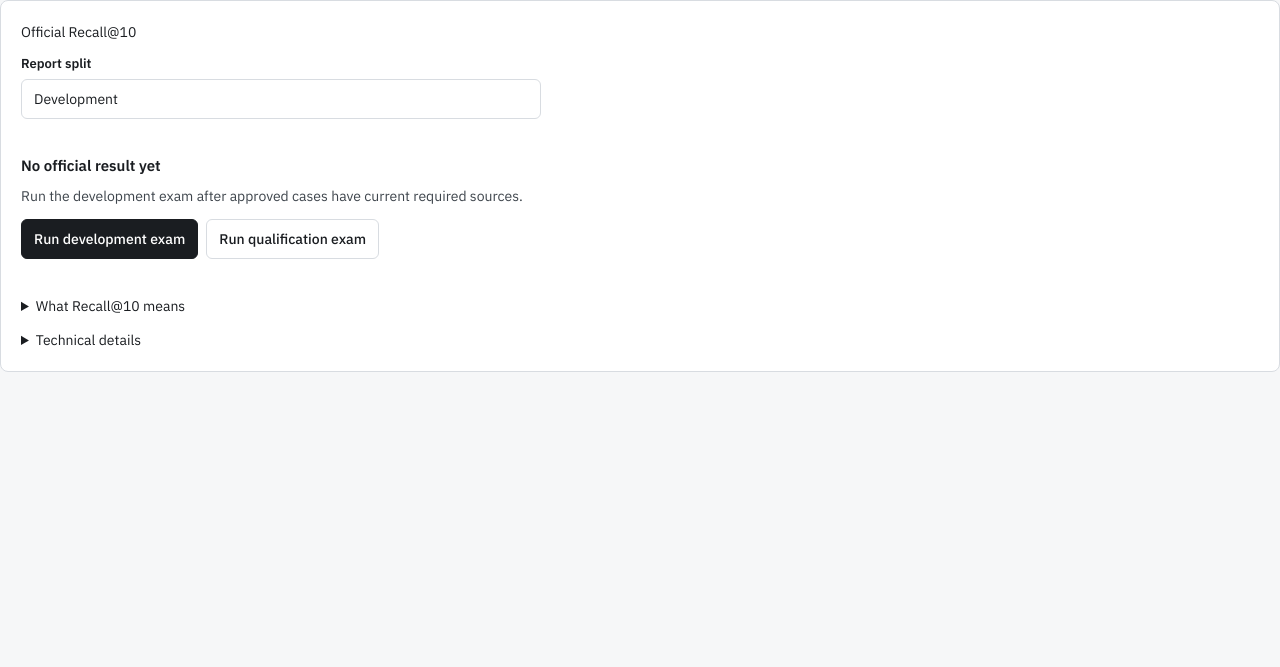
Test: EvaluationExamBoard › polls queued then running then succeeded and keeps count-only rows
Step 1. Click the button "Run development exam" → (110, 239), box [21,219,198,259]
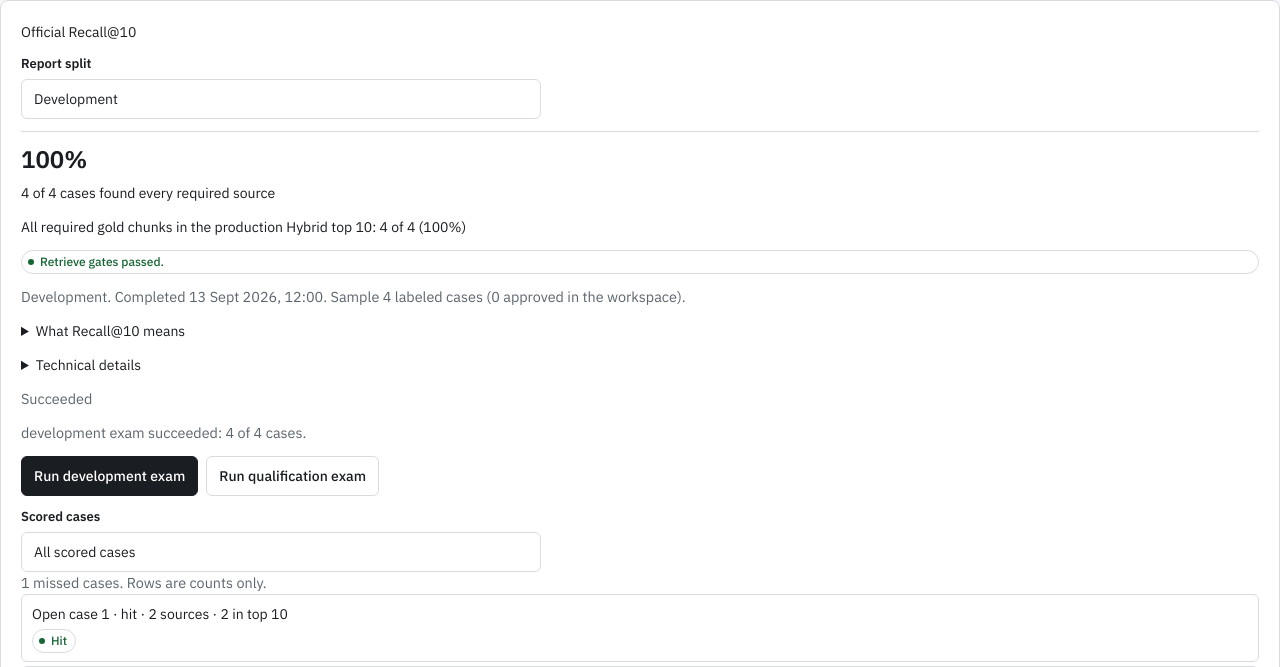
Expected: the text "development exam succeeded: 4 of 4 cases." is shown, [21,423,306,442]
Expected: the text "All required gold chunks in the production Hybrid top 10: 4 of 4 (100%)" is shown, [21,218,466,236]
